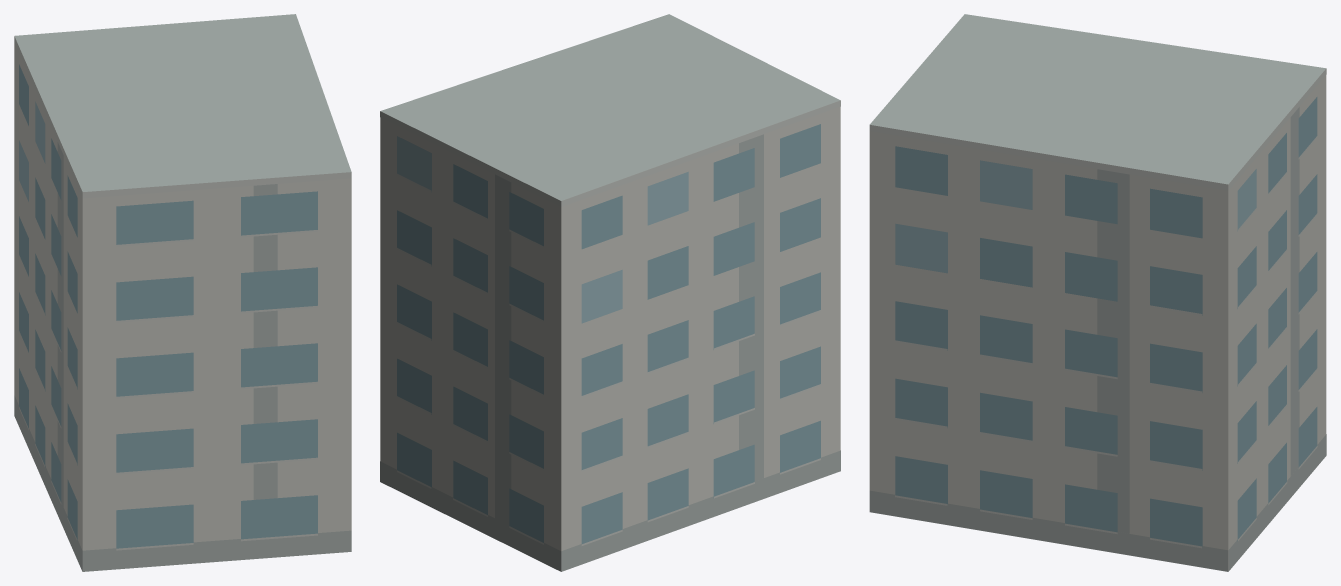
Rendered from survey-upis-32887673.glb.
3 views of the same model, side by side, from view 1: azimuth 30°, elevation 25°; view 2: azimuth 150°, elevation 25°; view 3: azimuth 270°, elevation 25° (orthographic). The views are drawn at different scales.
Parts seen in each view (by area): view 1: survey-upis-32887673.tmp; view 2: survey-upis-32887673.tmp; view 3: survey-upis-32887673.tmp.
Boxes of the visible parts, x1=… form: survey-upis-32887673.tmp: x1=14, y1=14, x2=351, y2=571; survey-upis-32887673.tmp: x1=380, y1=14, x2=840, y2=571; survey-upis-32887673.tmp: x1=869, y1=14, x2=1326, y2=571.
Size of the model in its own units: 13.73 by 14.54 by 15.55.
